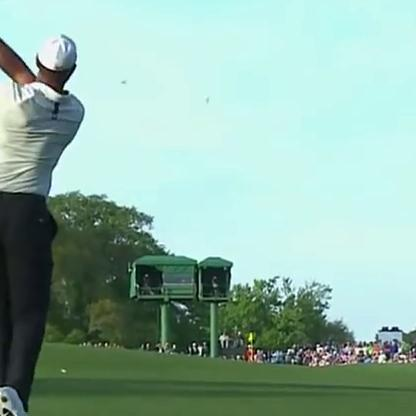golfball: (203, 96, 213, 103)
